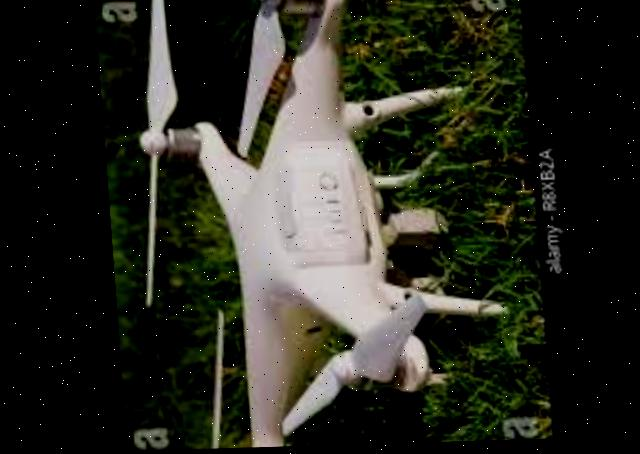drone: (112, 0, 519, 451)
